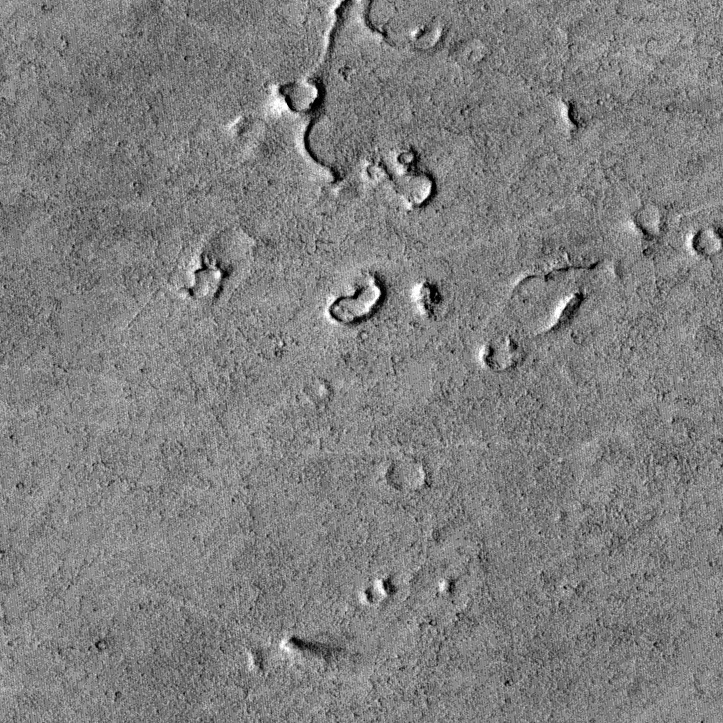dust_devil: (278, 634, 344, 665)
